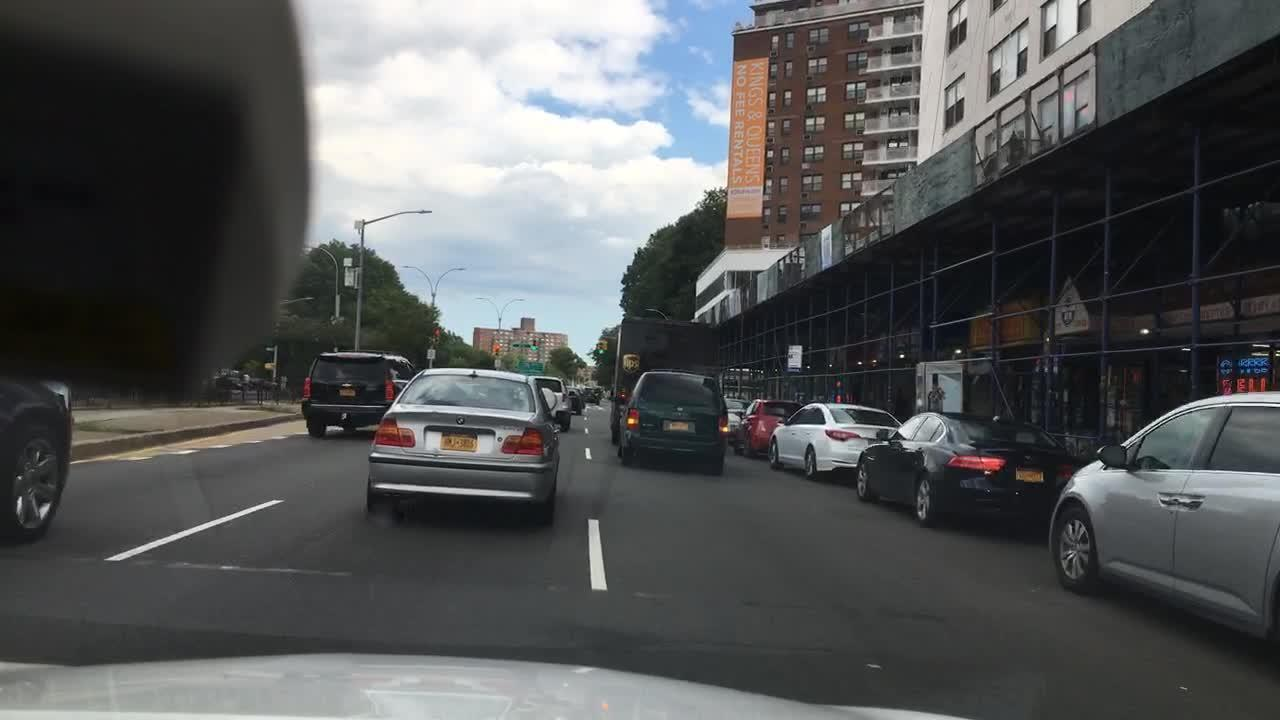bmw: (454, 414, 468, 426)
chevrolet: (339, 380, 356, 389)
